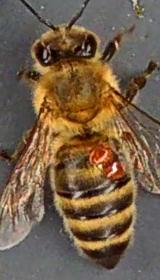varroa_mite: (81, 136, 109, 166), (104, 158, 125, 185)
